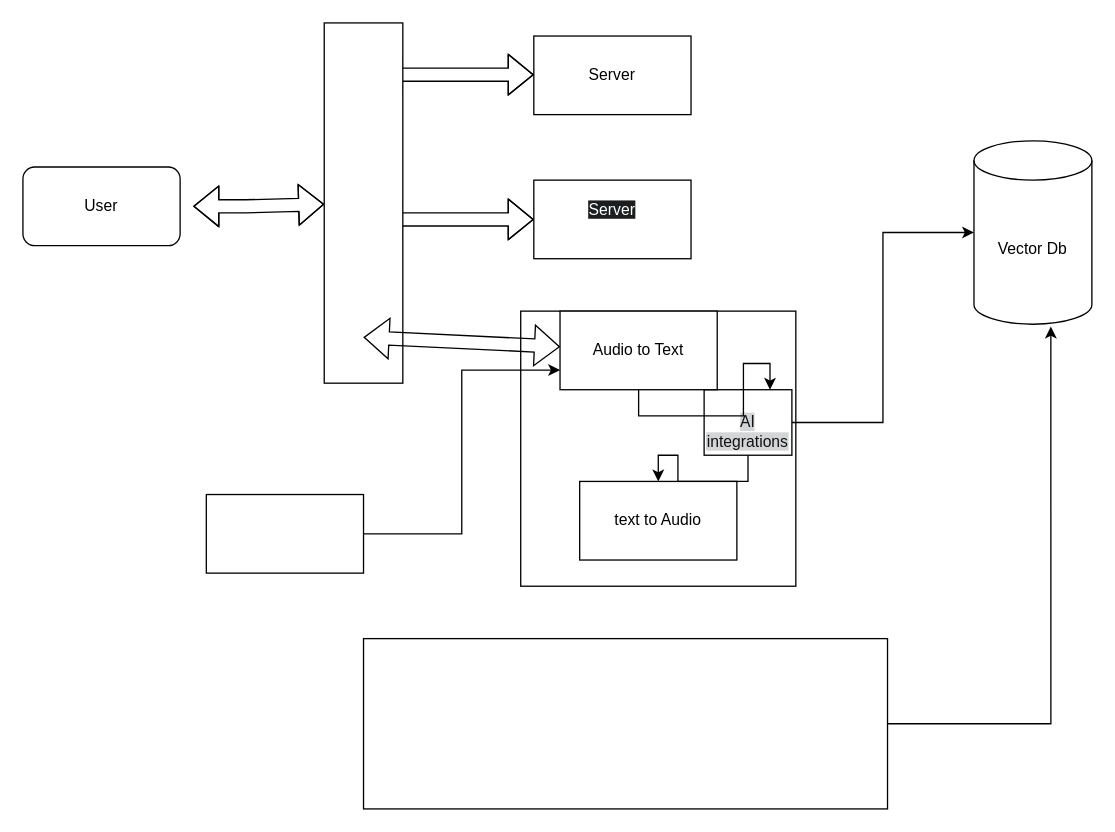
This 1115x832 diagram has some shape labels left out. The shapes that lost their labels are listed below. From the top down, each one's box as (x1, y1, x2, y2) in pixels, then its label:
(323, 22, 403, 383): API Gateway
(205, 493, 364, 573): AI Models
(362, 637, 888, 809): Manual Feed
